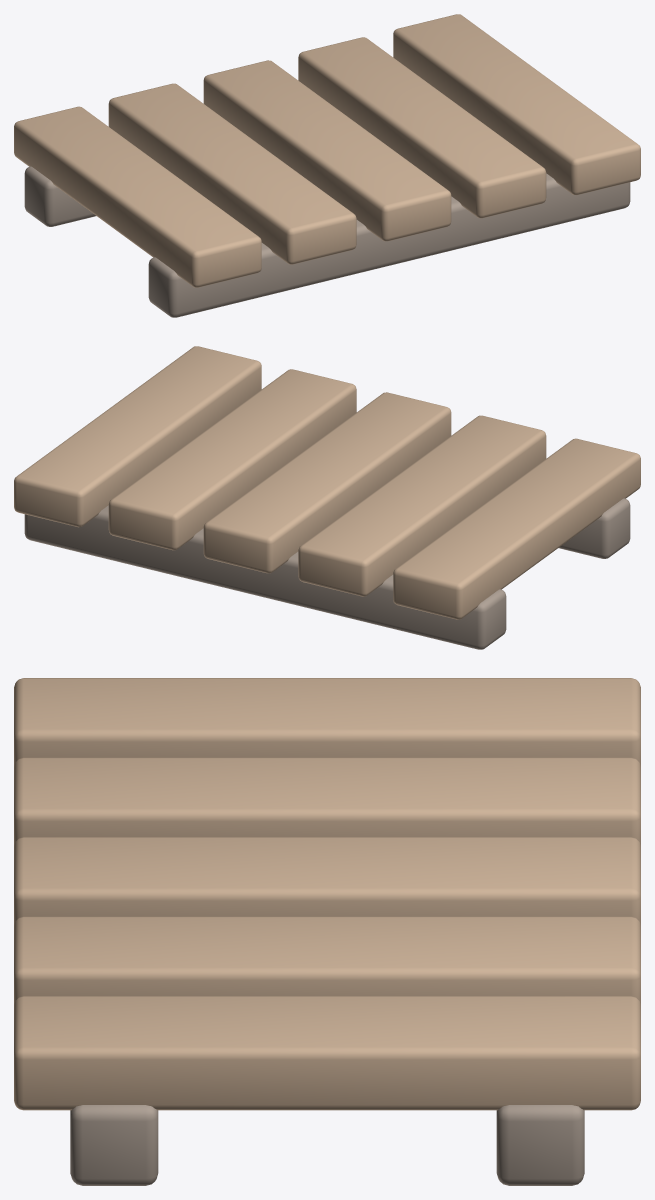
The model's file is wood-empty.glb.
The picture shows the model from 3 angles, top to bottom: view 1: azimuth 30°, elevation 25°; view 2: azimuth 150°, elevation 25°; view 3: azimuth 270°, elevation 25°; orthographic projection. The views are drawn at different scales.
Visible parts, largest first — view 1: Rounded pallet slat.010, Rounded pallet slat.011, Rounded pallet slat.012, Rounded pallet slat.013, Rounded pallet slat.014, Low pallet runner.004, Low pallet runner.005; view 2: Rounded pallet slat.010, Rounded pallet slat.011, Rounded pallet slat.012, Rounded pallet slat.013, Rounded pallet slat.014, Low pallet runner.005, Low pallet runner.004; view 3: Rounded pallet slat.014, Rounded pallet slat.010, Rounded pallet slat.012, Rounded pallet slat.011, Rounded pallet slat.013, Low pallet runner.004, Low pallet runner.005.
Boxes of the visible parts, x1,y1,x2,y2 form: Rounded pallet slat.010: (14,106,261,287); Rounded pallet slat.011: (108,83,356,264); Rounded pallet slat.012: (203,60,451,241); Rounded pallet slat.013: (298,37,546,218); Rounded pallet slat.014: (393,14,640,195); Low pallet runner.004: (148,173,630,317); Low pallet runner.005: (24,166,95,226); Rounded pallet slat.010: (393,438,640,619); Rounded pallet slat.011: (298,415,546,596); Rounded pallet slat.012: (203,392,451,573); Rounded pallet slat.013: (108,369,356,550); Rounded pallet slat.014: (14,346,261,527); Low pallet runner.005: (24,505,506,649); Low pallet runner.004: (559,498,630,558); Rounded pallet slat.014: (14,996,640,1110); Rounded pallet slat.010: (14,678,640,766); Rounded pallet slat.012: (14,837,640,925); Rounded pallet slat.011: (14,757,640,845); Rounded pallet slat.013: (14,916,640,1004); Low pallet runner.004: (70,1105,158,1185); Low pallet runner.005: (496,1105,584,1185).
Bounding box in the file's own units: 1.46 × 0.235 × 1.
